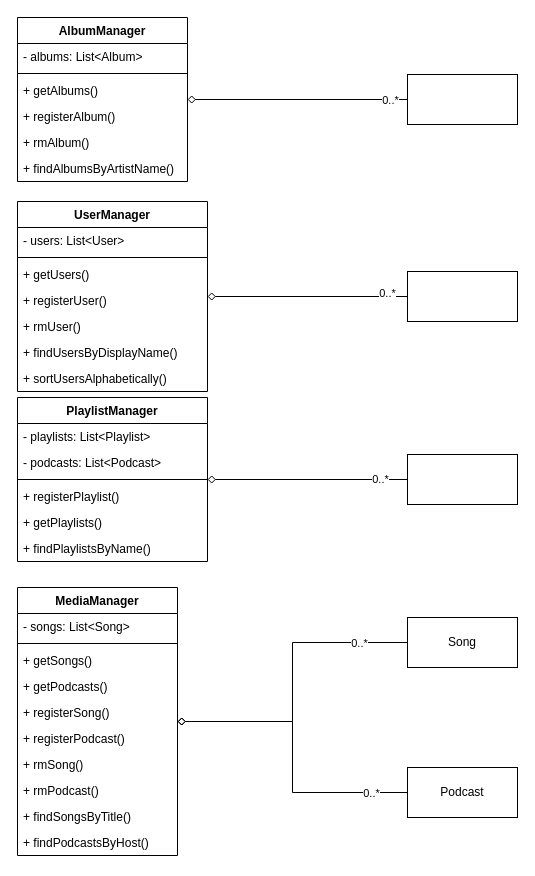
Image size: 535x876. Some labels were removed from this diagram. Here are the shapes that lost their labels. From the top down, the centre of each, then its label:
At (462,99): "Album".
At (462,296): "User".
At (462,479): "Playlist".
